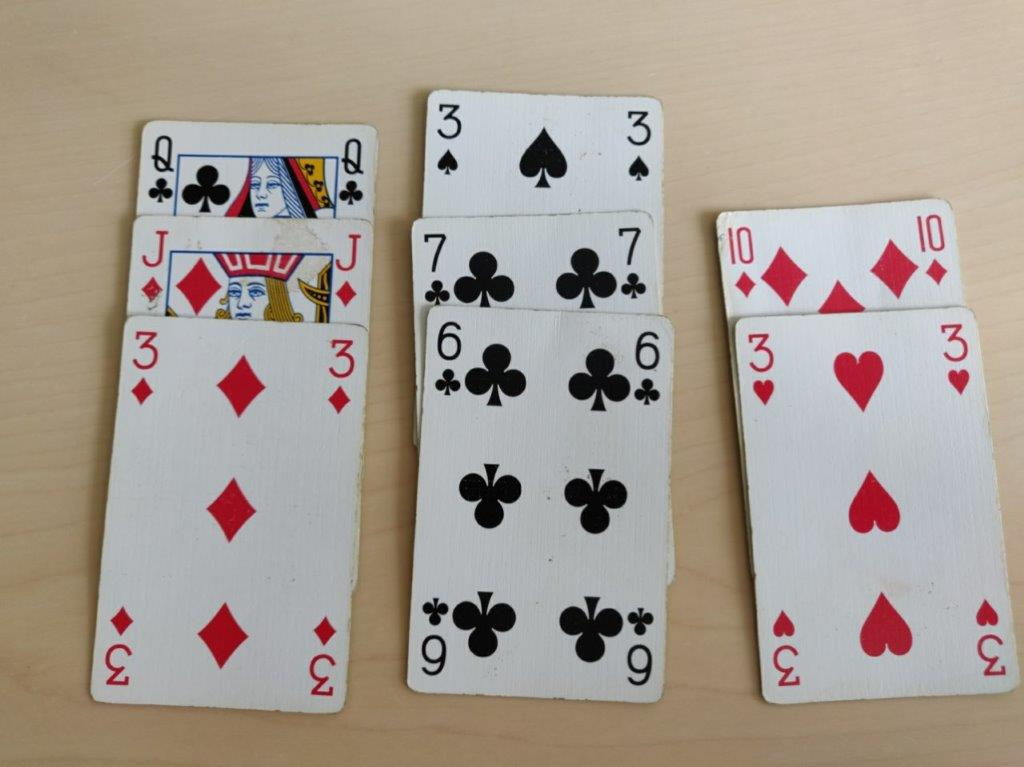10D: (720, 218, 761, 298), (911, 208, 950, 285)
3D: (321, 333, 359, 416), (127, 325, 161, 409)
3H: (932, 318, 981, 400), (741, 328, 778, 406)
3S: (620, 104, 656, 188), (431, 98, 464, 175)
6C: (625, 325, 665, 411), (611, 218, 651, 302), (429, 315, 466, 399)
7C: (417, 228, 452, 305)
JD: (330, 231, 366, 309), (138, 222, 169, 304)
QC: (147, 129, 177, 208), (338, 134, 367, 208)
